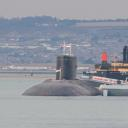submarine: (21, 52, 103, 97)
